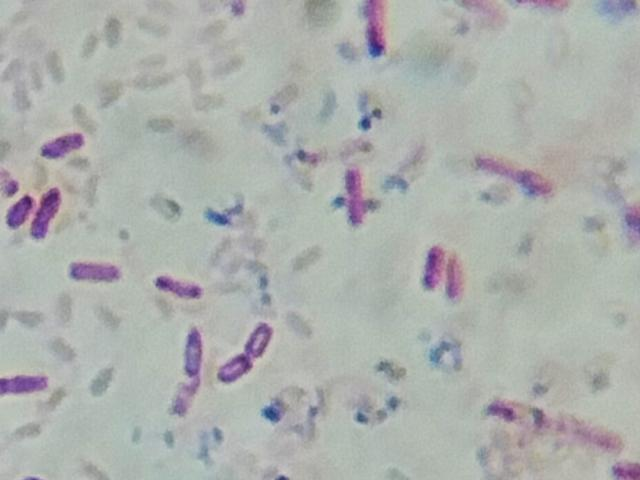E. coli: (492, 392, 621, 456), (476, 147, 546, 199), (42, 126, 87, 165), (0, 363, 47, 400), (31, 187, 62, 237), (63, 256, 119, 283), (358, 0, 384, 57), (343, 165, 366, 229), (159, 267, 199, 299), (246, 320, 277, 360), (181, 320, 206, 367), (442, 253, 463, 303), (215, 353, 247, 382), (419, 242, 439, 287), (5, 189, 26, 230), (159, 399, 186, 400)
